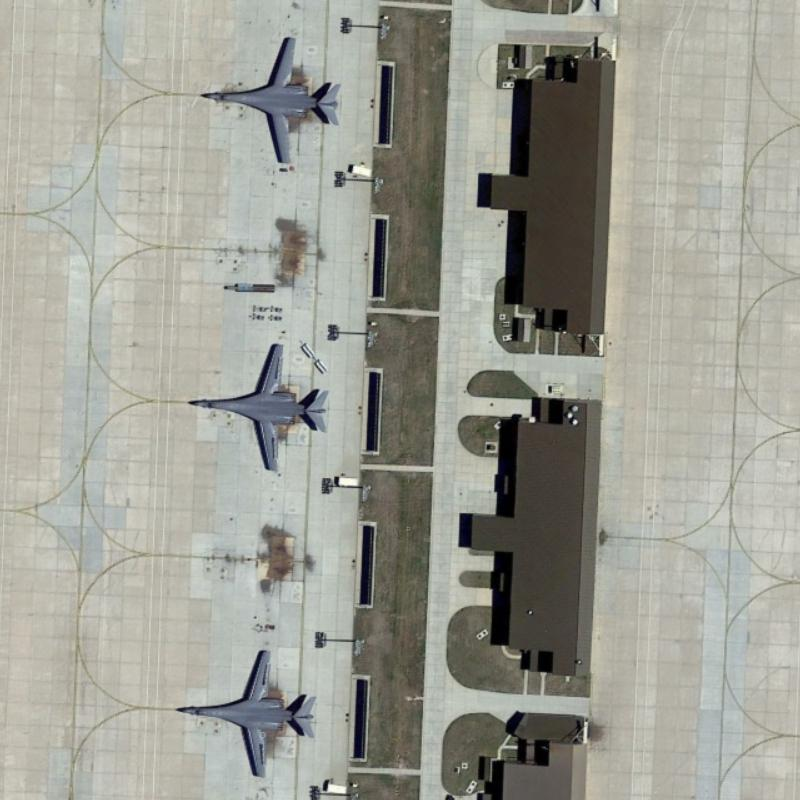A10: (195, 30, 364, 177), (169, 641, 342, 781), (183, 332, 341, 478)
